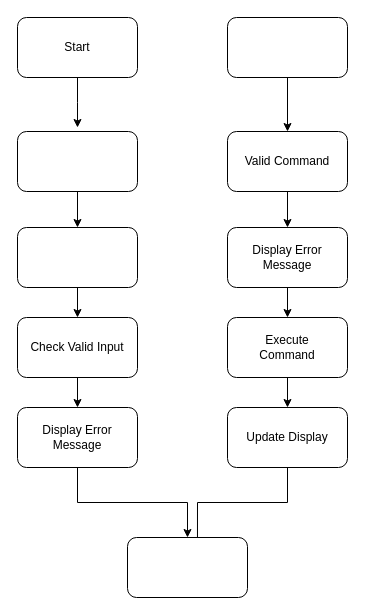
The diagram is 365 pixels wide and 615 high, and some of its shapes have lost their labels. The shapes that lost their labels are listed below. From the top down, each one's centre as x and y in pixels, then its label:
At point 287,47: "Input Command".
At point 77,161: "Display Options".
At point 77,257: "Get User Input".
At point 187,567: "End".
